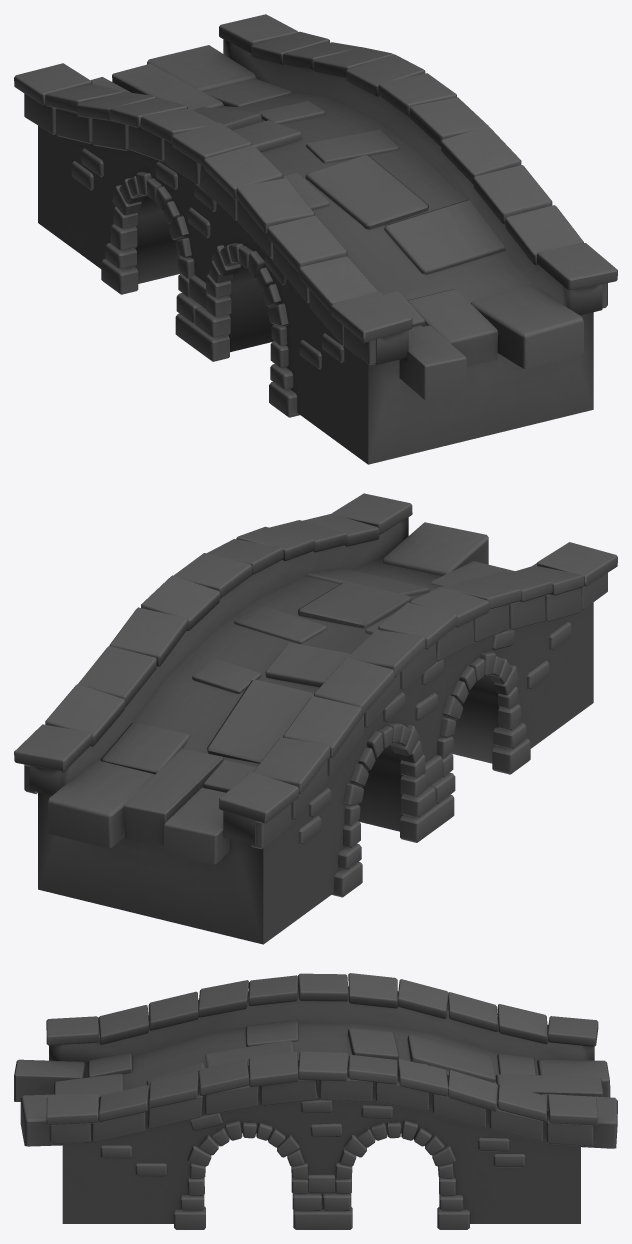
File: stone_bridge.fbx
The picture shows the model from 3 angles, top to bottom: view 1: azimuth 30°, elevation 25°; view 2: azimuth 150°, elevation 25°; view 3: azimuth 270°, elevation 25°; orthographic projection. The views are drawn at different scales.
Visible parts, largest first — view 1: stone_bridge; view 2: stone_bridge; view 3: stone_bridge.
Boxes of the visible parts, x1,y1,x2,y2 form: stone_bridge: [14, 14, 617, 464]; stone_bridge: [14, 493, 617, 944]; stone_bridge: [14, 973, 617, 1229].
Bounding box in the file's own units: 49.6 × 38.14 × 128.
Materials: 1 (1 with a texture image).
